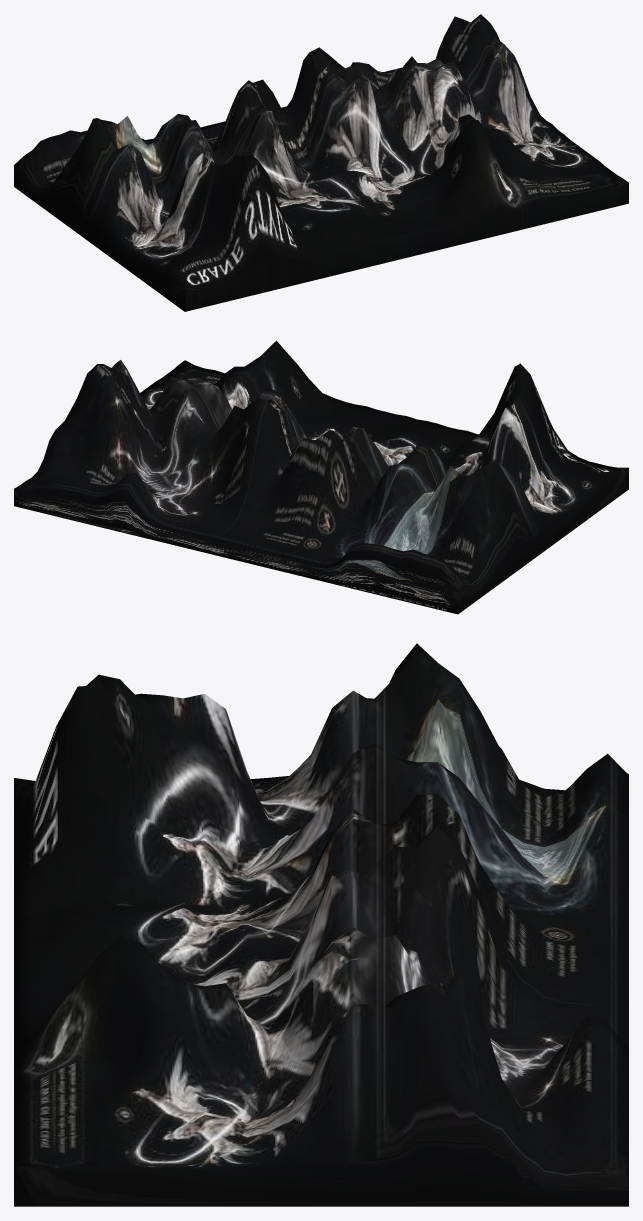
The model's file is CUL_33_Crane.glb.
3 renders of one model, top to bottom at view 1: azimuth 30°, elevation 25°; view 2: azimuth 150°, elevation 25°; view 3: azimuth 270°, elevation 25°, orthographic. The views are drawn at different scales.
Visible parts, largest first — view 1: CUL_33_Crane; view 2: CUL_33_Crane; view 3: CUL_33_Crane.
Part boxes in pixels (x1,y1,x2,y2): CUL_33_Crane: (14, 14, 628, 311); CUL_33_Crane: (14, 340, 628, 614); CUL_33_Crane: (14, 643, 628, 1206).
Bounding box in the file's own units: 2 × 0.51 × 1.33.
1 material, 1 textured.
